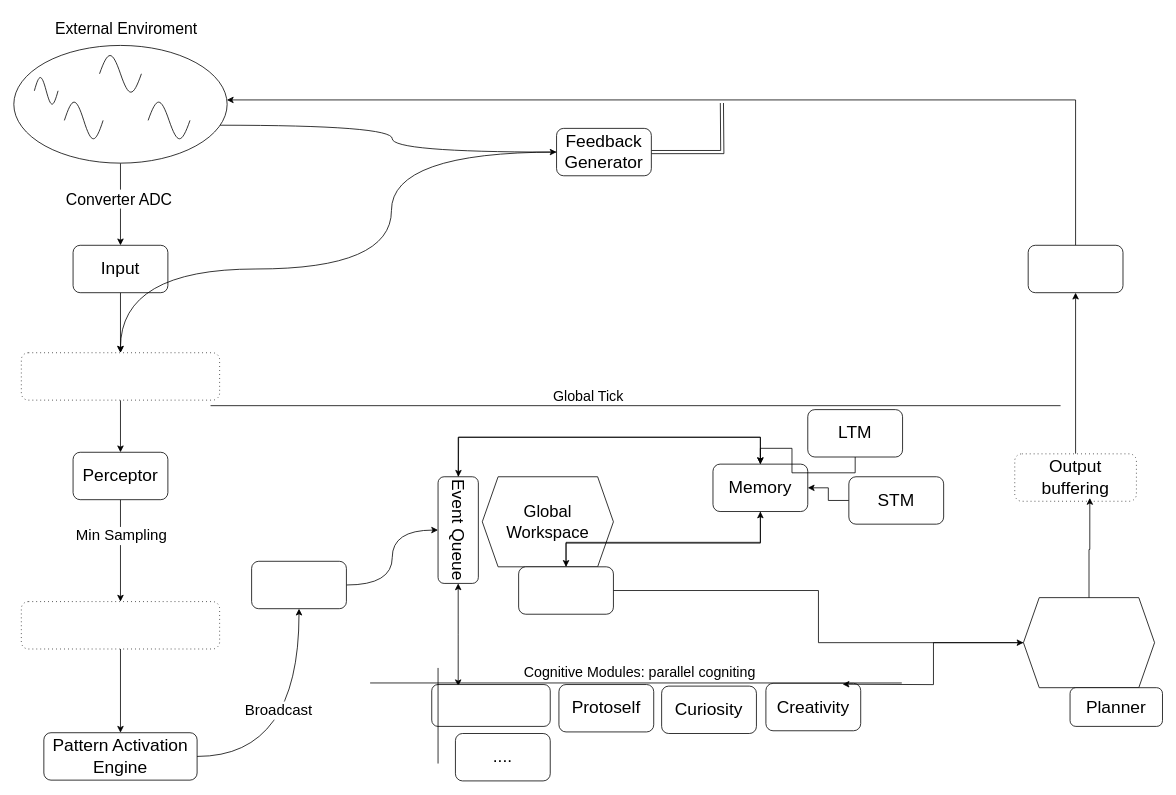
This 1176x795 diagram has some shape labels left out. The box of each missing label's shape, as (x1, y1, x2, y2) in pixels:
Consciuos Group: (518, 566, 613, 614)
Emotion: (431, 684, 550, 726)
Event: (251, 561, 346, 609)
generate RawEvent: (21, 601, 220, 649)
Input Queue: buffering: (21, 352, 220, 400)
Output Dispatcher: (1027, 245, 1123, 293)
Reasoning Engine: (1023, 597, 1155, 688)
